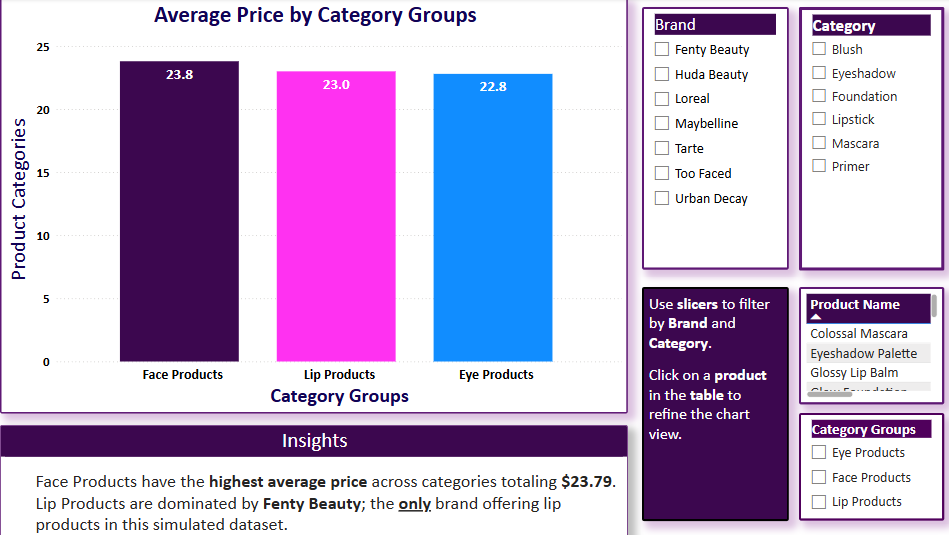

The page's visual inventory and layout, read from the dashboard file:
{"tool":"powerbi","page":{"name":"Average Price by Cat ","canvas":[1280,720],"ordinal":10},"visuals":[{"type":"clusteredColumnChart","title":"Average Price by Category Groups  ","fields":{"Category":["Products.Category Groups  "],"Y":["Avg(Products.Price)"]},"box":[10.6,12.1,834.8,507.6],"z":0},{"type":"slicer","fields":{"Values":["Products.Category"]},"box":[1072.5,12,192.7,349.5],"z":1000},{"type":"slicer","fields":{"Values":["Products.Brand"]},"box":[863.5,12,195.3,349.4],"z":2000},{"type":"tableEx","fields":{"Values":["Products.Product Name"]},"box":[1072.2,384,192.7,155.5],"z":3000},{"type":"textbox","box":[863.5,383.9,195.3,310.8],"z":4000},{"type":"textbox","title":"Insights","box":[10.6,539.4,834.8,154.5],"z":5000},{"type":"slicer","fields":{"Values":["Products.Category Groups  "]},"box":[1072.2,551.9,192.7,143.1],"z":6000}]}

Visuals, with their boxes in screenshot pixels (x1, y1, x2, y2), scaled from the page's 1280x720 canvas onto the 949x535 screenshot:
"Average Price by Category Groups  " clusteredColumnChart: 8,9,627,386
slicer - Products.Category: 795,9,938,269
slicer - Products.Brand: 640,9,785,269
tableEx - Products.Product Name: 795,285,938,401
textbox: 640,285,785,516
"Insights" textbox: 8,401,627,516
slicer - Products.Category Groups  : 795,410,938,516
